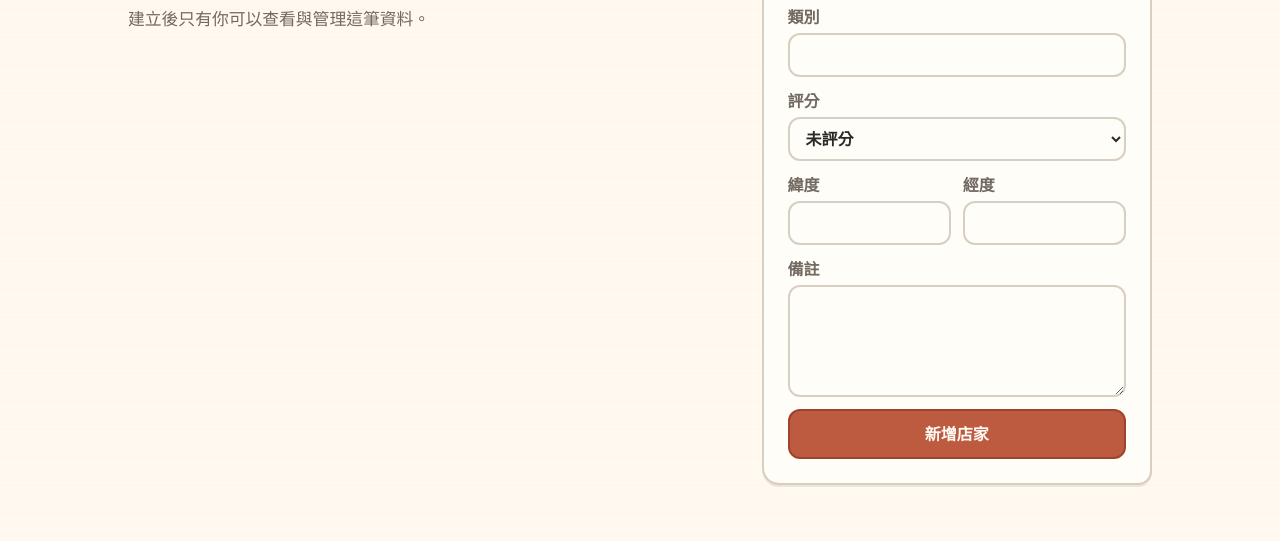
Test: CreateRestaurantPage › does not submit without a restaurant name
(page scrolled)
Click the button "新增店家" at [957, 434], box [788,409,1126,459]
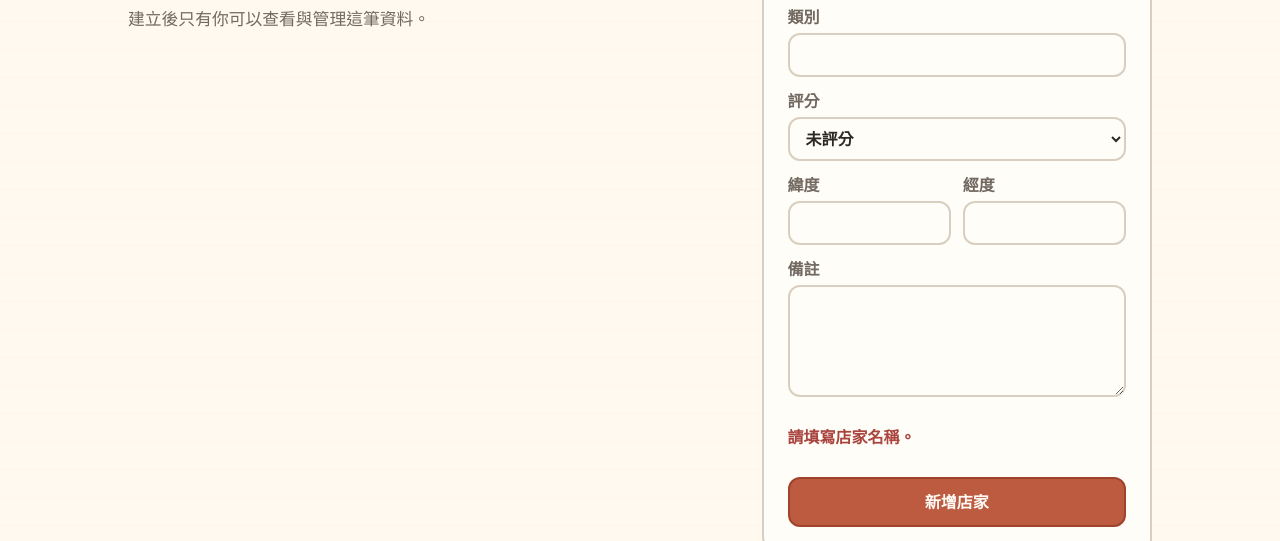
Now the message reads "請填寫店家名稱。", box [788,426,916,448]
